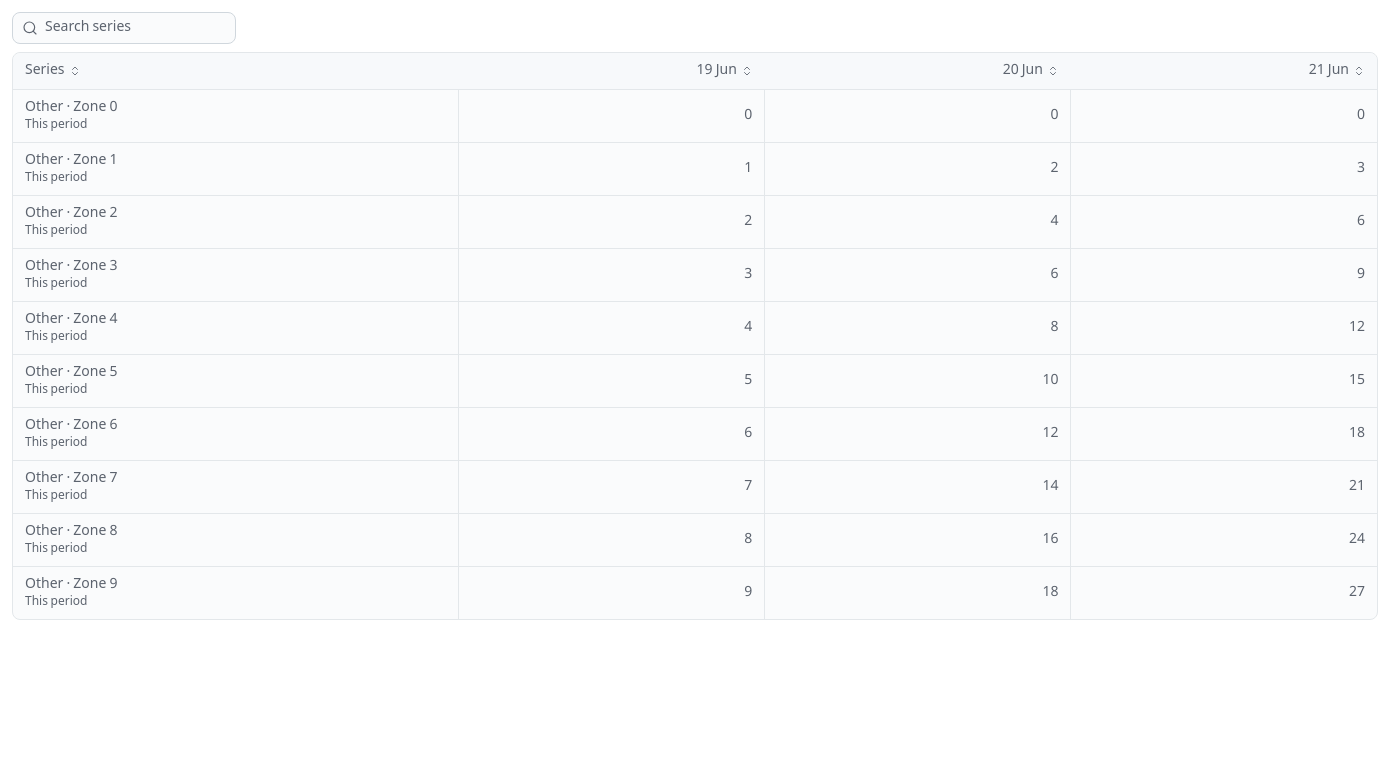
Scenario: §A11 — table chrome › filters the rows by name, and says so when none match
The width and height of the screenshot is (1378, 780).
In the search field labelled "Search series": (124, 28) top-left (12, 12), bottom-right (236, 44), type "Zone 3"
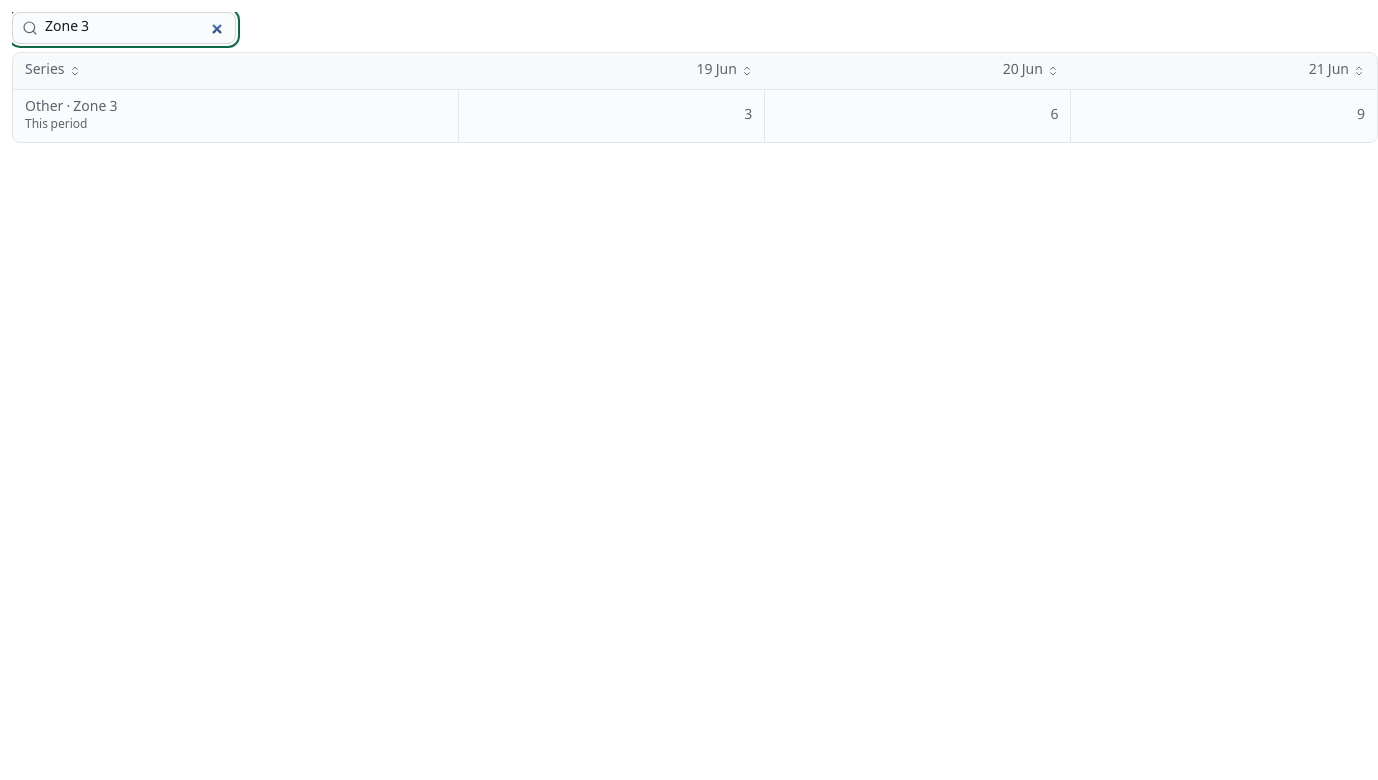
Result: the number of rows is 2 at top-left (13, 53), bottom-right (1377, 89); top-left (13, 89), bottom-right (1377, 142)
Replace the text in the search field named "Search series" with "Riyadh": (124, 28) top-left (12, 12), bottom-right (236, 44)
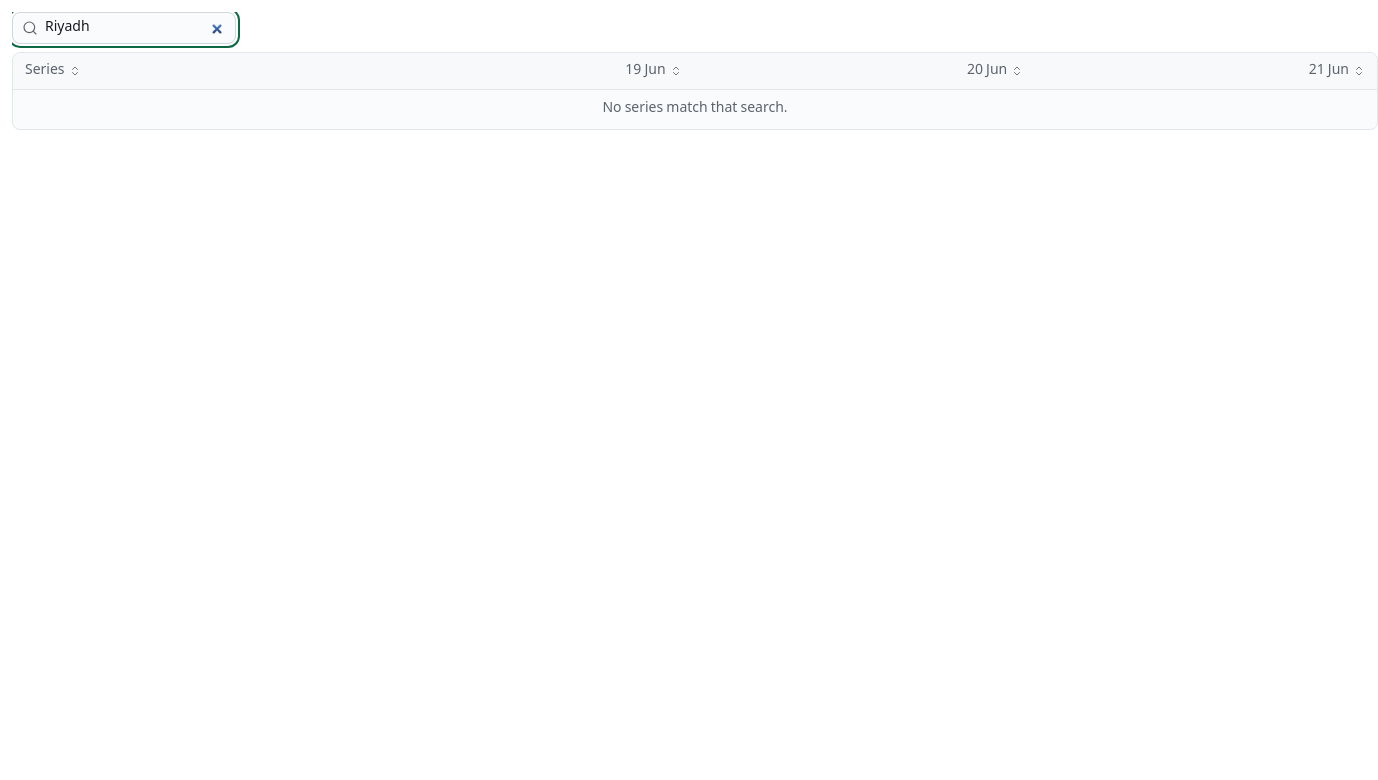
Result: the text "No series match that search." is shown at top-left (13, 89), bottom-right (1377, 129)
